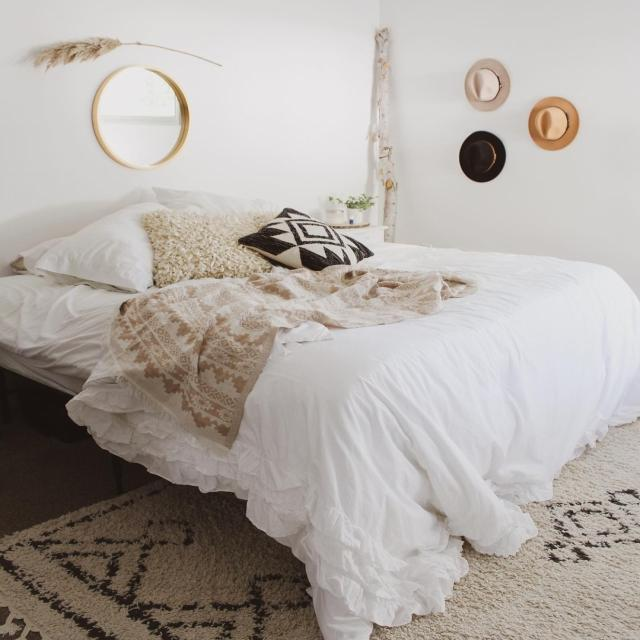bed: (0, 212, 588, 520)
